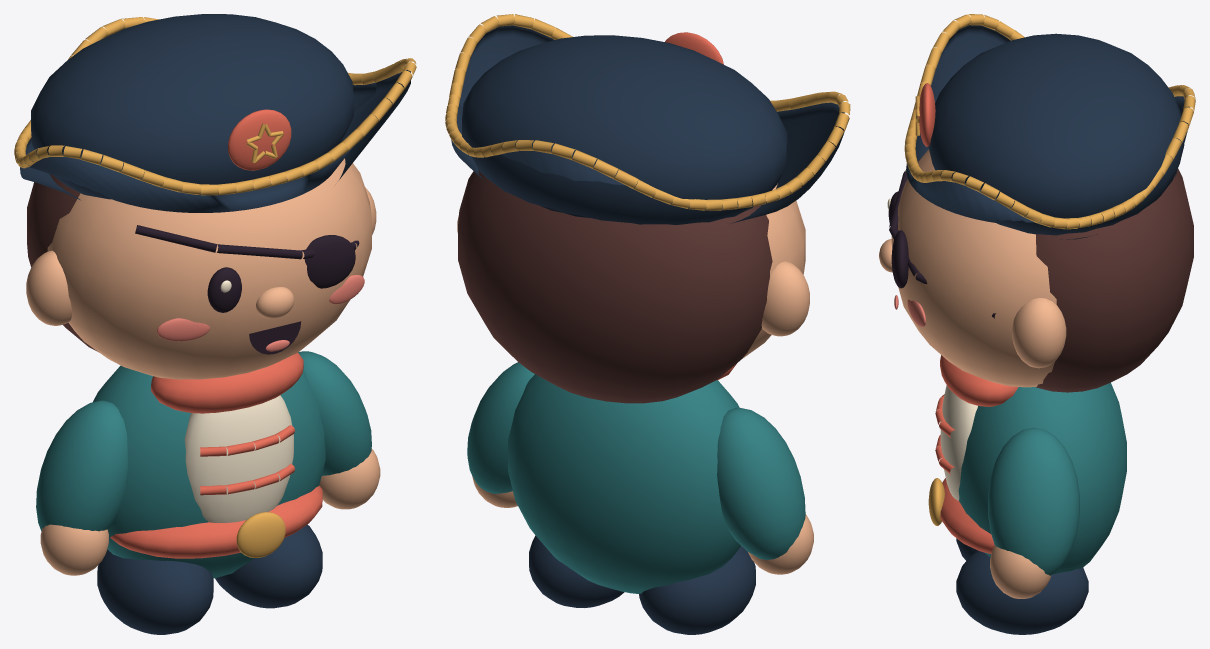
Rendered from pirate_figure.glb.
3 views of the same model, side by side, from view 1: azimuth 30°, elevation 25°; view 2: azimuth 150°, elevation 25°; view 3: azimuth 270°, elevation 25° (orthographic). The views are drawn at different scales.
Parts seen in each view (by area): view 1: SoftRoundHead, HatCrown, Coat, Sleeve, Shirt, TricornBrim, Boot, GoldHatPiping, _MeshInstance3D_4, _MeshInstance3D_5, Neckerchief, Sash (+16 smaller); view 2: HairCap, HatCrown, Coat, Sleeve, GoldHatPiping, TricornBrim, Boot, _MeshInstance3D_5, _MeshInstance3D_4, Ear, SoftRoundHead, Hand (+1 smaller); view 3: HatCrown, HairCap, SoftRoundHead, Coat, _MeshInstance3D_5, GoldHatPiping, _MeshInstance3D_4, TricornBrim, _MeshInstance3D_7, Shirt, _MeshInstance3D_6, Neckerchief (+5 smaller).
Part boxes in pixels (x1,y1,x2,y2): SoftRoundHead: [47, 158, 371, 379]; HatCrown: [31, 14, 353, 199]; Coat: [93, 365, 325, 578]; Sleeve: [36, 400, 127, 531]; Shirt: [184, 395, 293, 522]; TricornBrim: [20, 35, 410, 212]; Boot: [97, 549, 213, 634]; GoldHatPiping: [14, 17, 416, 195]; _MeshInstance3D_4: [215, 524, 322, 608]; _MeshInstance3D_5: [298, 351, 371, 475]; Neckerchief: [151, 353, 303, 413]; Sash: [110, 486, 322, 558]; HairCap: [458, 169, 772, 403]; HatCrown: [462, 35, 787, 224]; Coat: [507, 374, 740, 593]; Sleeve: [717, 407, 805, 559]; GoldHatPiping: [445, 14, 850, 210]; TricornBrim: [451, 25, 844, 223]; Boot: [639, 546, 755, 634]; _MeshInstance3D_5: [467, 362, 534, 493]; _MeshInstance3D_4: [529, 535, 624, 607]; Ear: [761, 261, 809, 336]; SoftRoundHead: [741, 183, 805, 359]; Hand: [748, 514, 813, 574]; HatCrown: [928, 33, 1184, 235]; HairCap: [1036, 168, 1193, 392]; SoftRoundHead: [891, 149, 1056, 387]; Coat: [958, 382, 1126, 573]; _MeshInstance3D_5: [988, 427, 1079, 575]; GoldHatPiping: [904, 14, 1195, 229]; _MeshInstance3D_4: [956, 550, 1088, 634]; TricornBrim: [906, 25, 1190, 239]; _MeshInstance3D_7: [1012, 298, 1066, 368]; Shirt: [940, 385, 977, 500]; _MeshInstance3D_6: [990, 545, 1051, 598]; Neckerchief: [940, 355, 1018, 406].
Bounding box in the file's own units: 1.12 × 1.62 × 0.8547.
